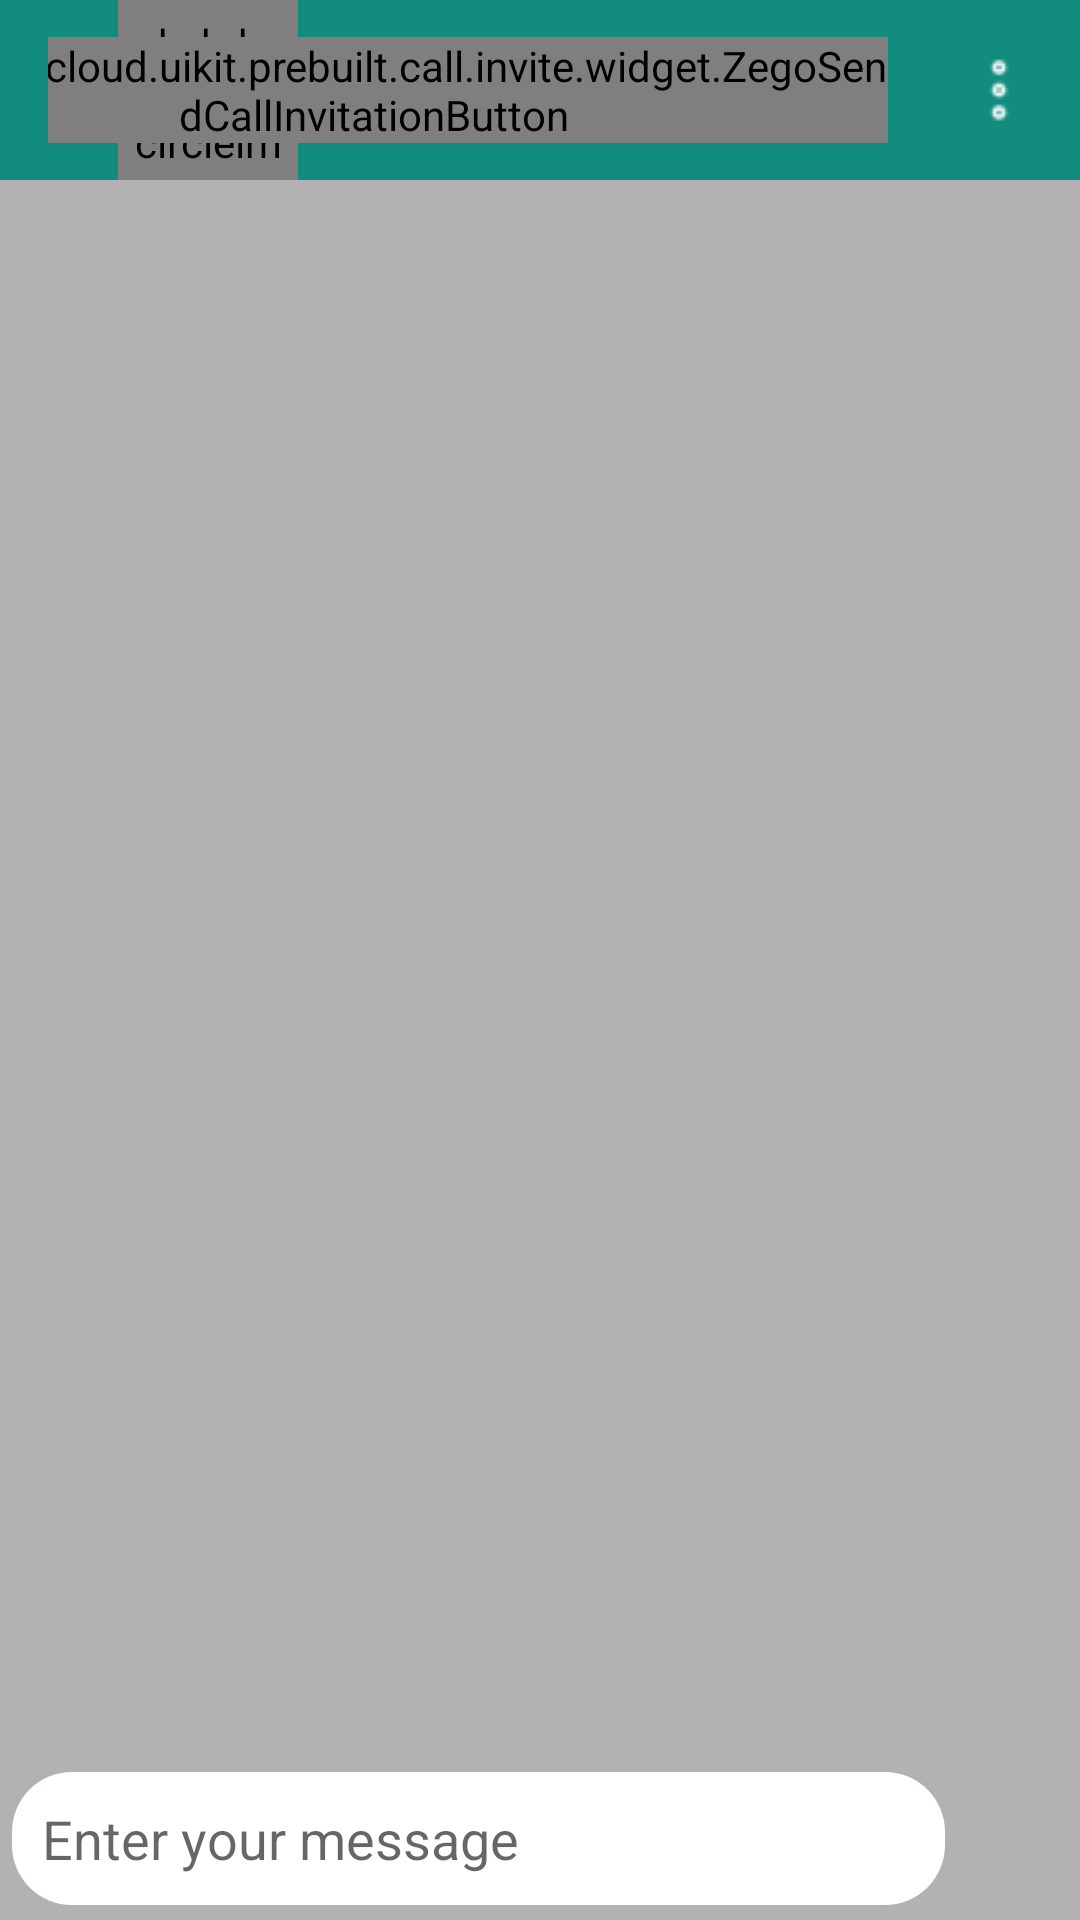

Icons on this 1080×1920 Android screen, each with its box as (x1, y1, x2, y2):
dots: (990, 59, 1008, 121)
